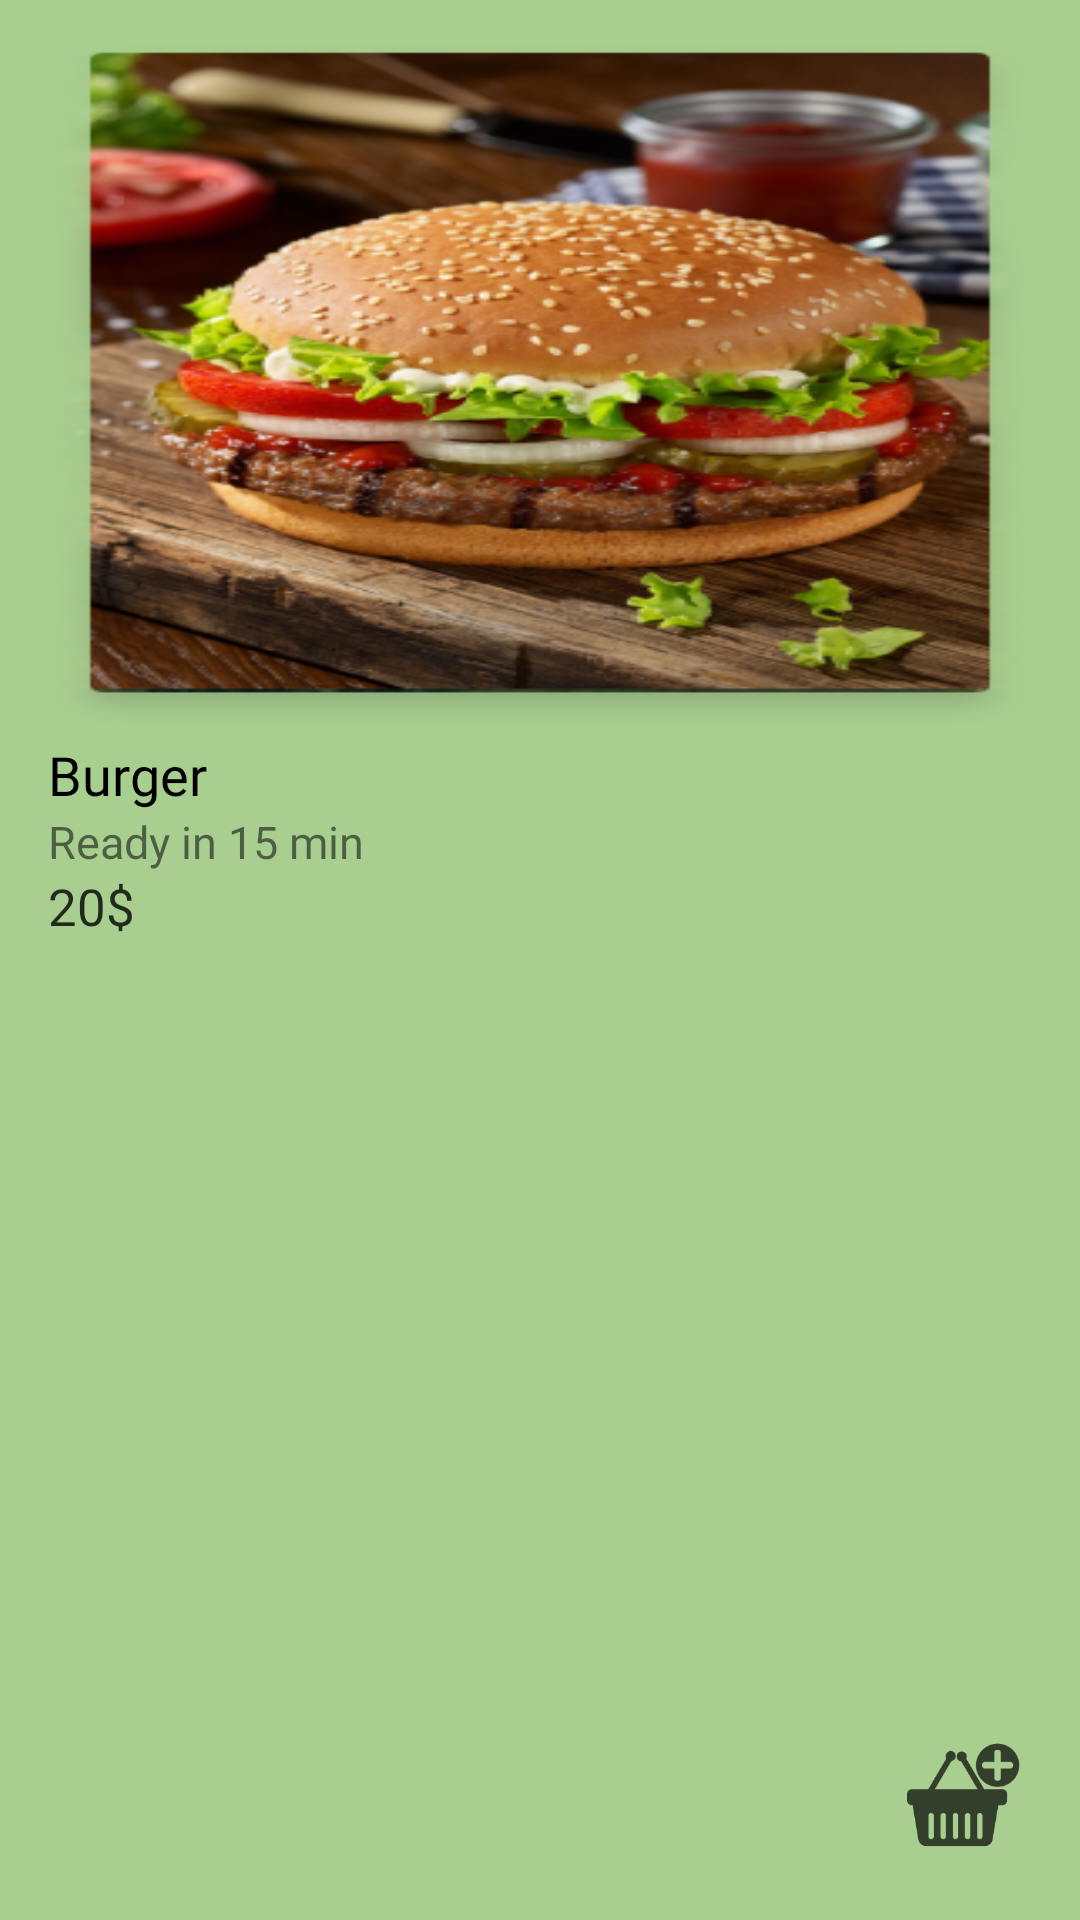

Where to tap for icons on this 1080 × 1920 app screen, as [x,y]:
addtocart: [963,1794]
